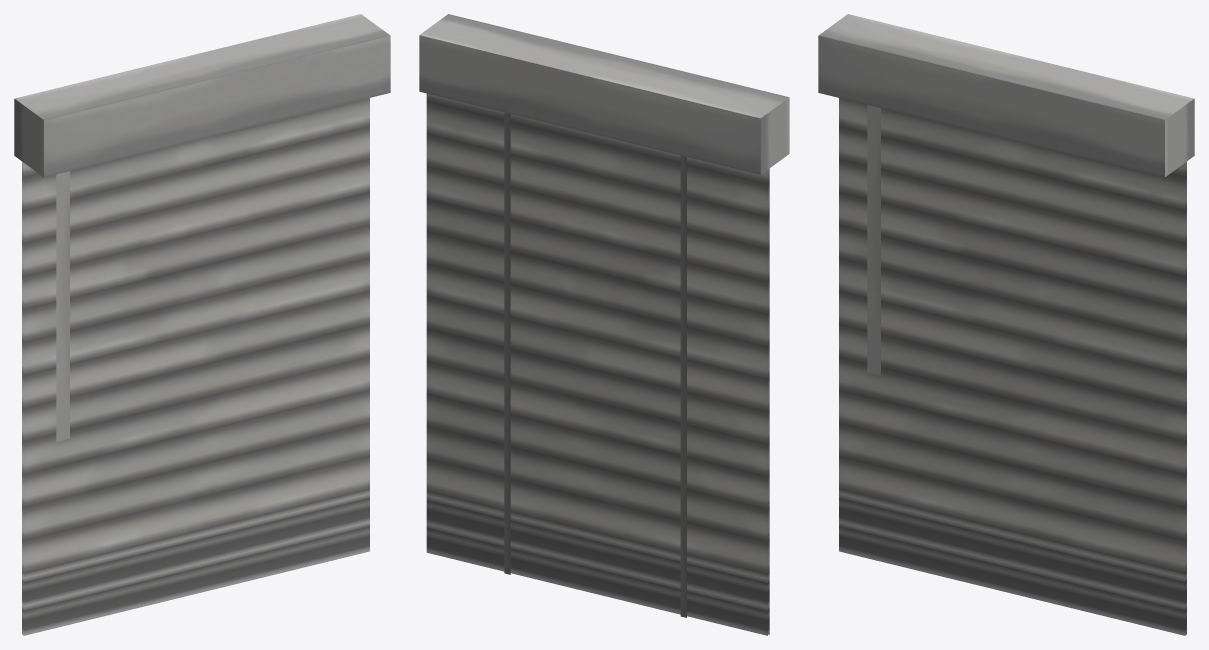
Rendered from WAL0110002.FBX.
3 renders of one model, left to right at view 1: azimuth 30°, elevation 25°; view 2: azimuth 150°, elevation 25°; view 3: azimuth 330°, elevation 25°, orthographic.
Parts seen in each view (by area): view 1: smWAL0110002; view 2: smWAL0110002; view 3: smWAL0110002.
Part boxes in pixels (x1=…): smWAL0110002: x1=14, y1=14, x2=390, y2=635; smWAL0110002: x1=419, y1=14, x2=789, y2=635; smWAL0110002: x1=818, y1=14, x2=1194, y2=635.
Size of the model in its own units: 1.28 by 1.87 by 0.1882.
Materials: 1 (1 with a texture image).
